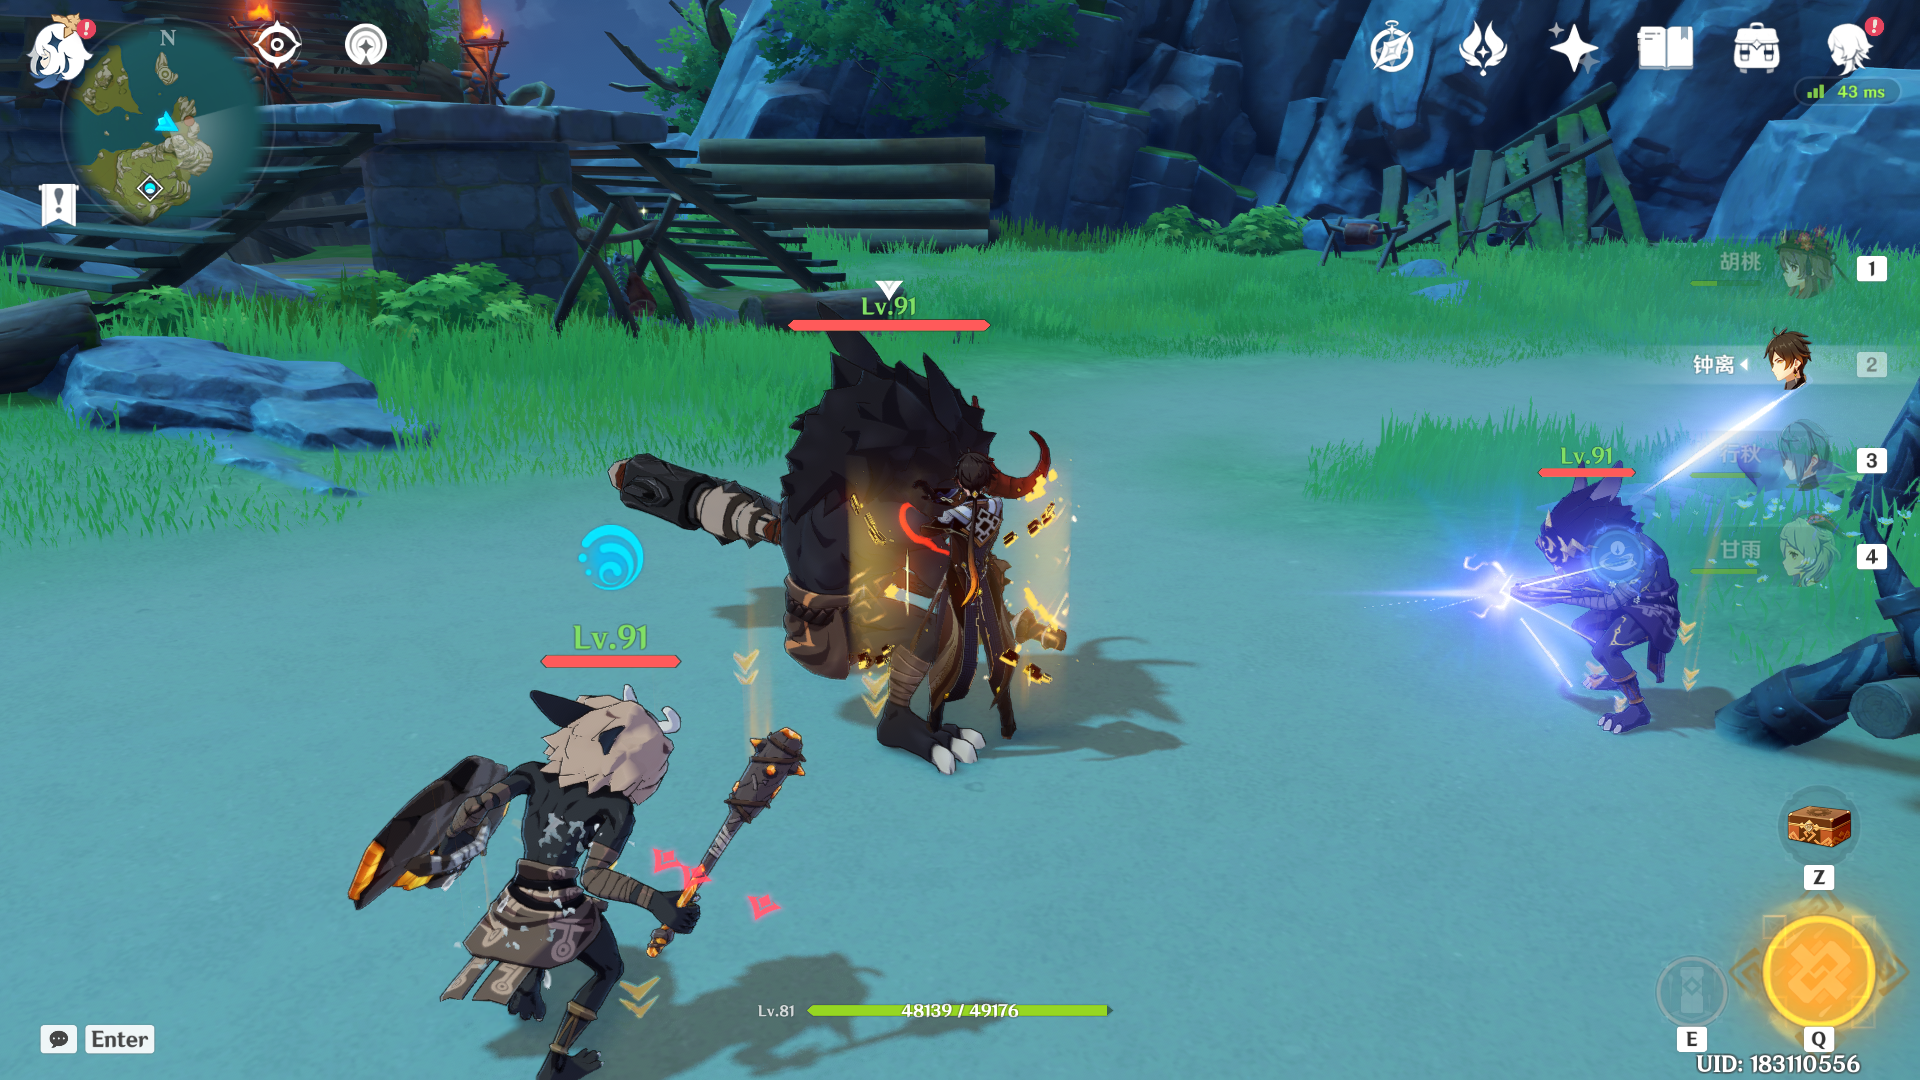bighili: (669, 282, 1033, 764)
character: (882, 450, 1075, 742)
hili: (323, 626, 814, 1073), (1484, 473, 1718, 785)
